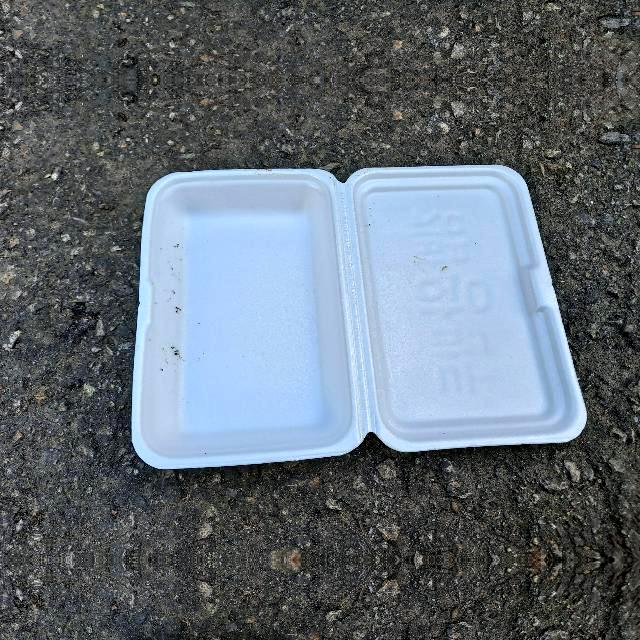Styrofoam: (132, 167, 588, 471), (131, 165, 586, 469)
